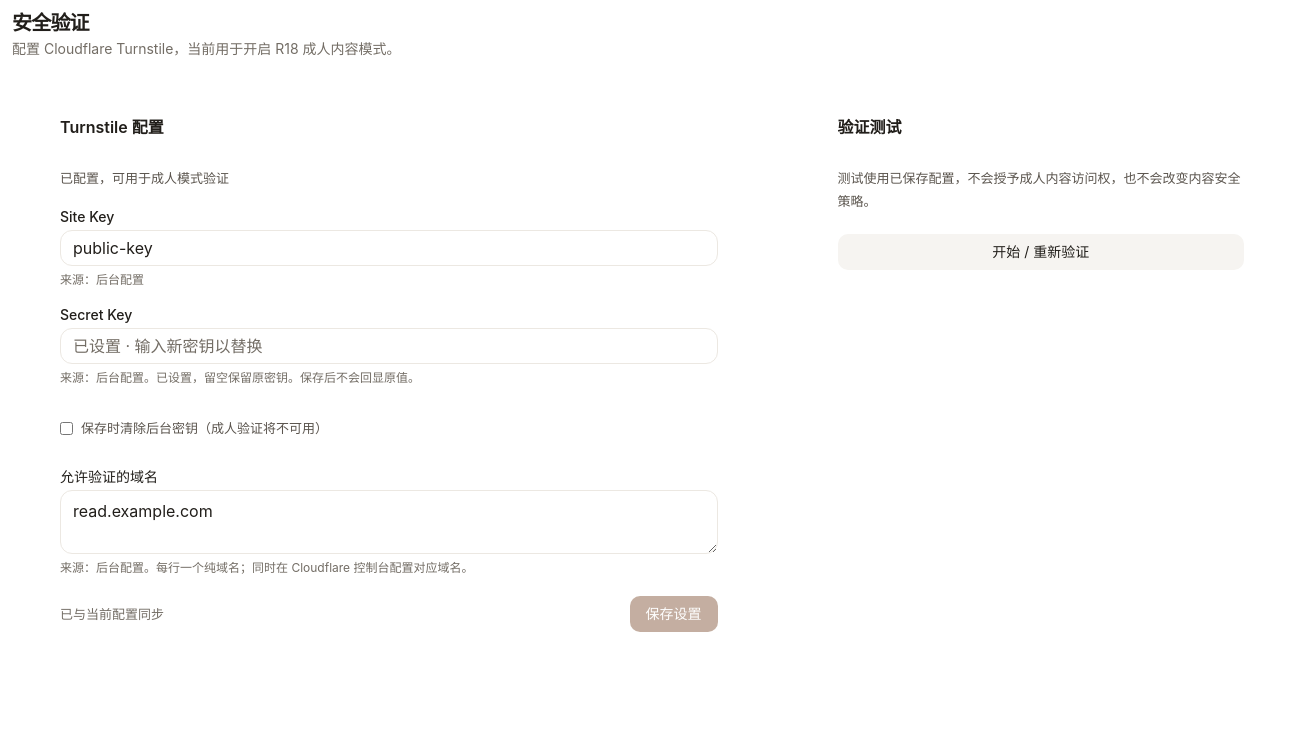
Test: SiteSettingsTab › 私钥留空不替换，未保存修改禁止测试
expect the button "保存设置" is shown: met, box [630,596,718,632]
Type "new.example.com" into the text box labelled "允许验证的域名".
click(389, 522); type("new.example.com")  # box [60,490,718,554]
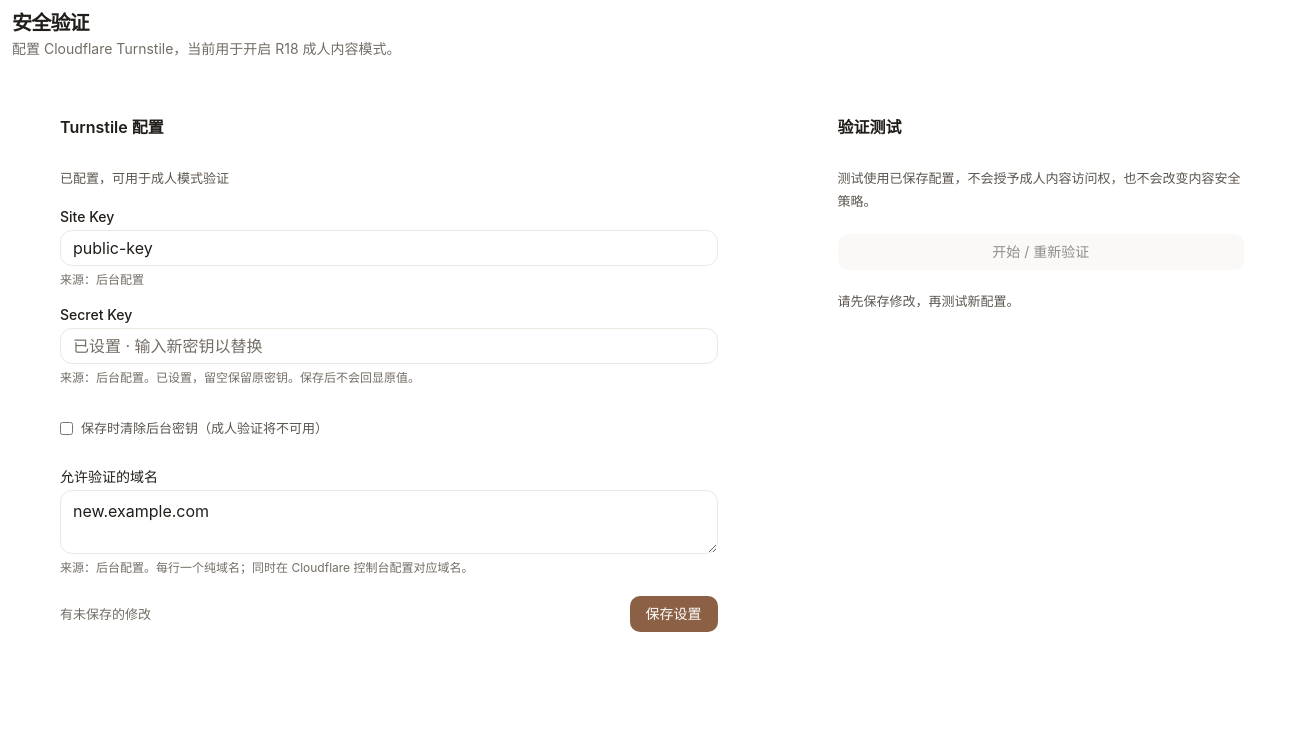
expect the button "开始 / 重新验证" is disabled: met, box [838,234,1244,270]
Click the button "保存设置".
click(674, 614)  # box [630,596,718,632]
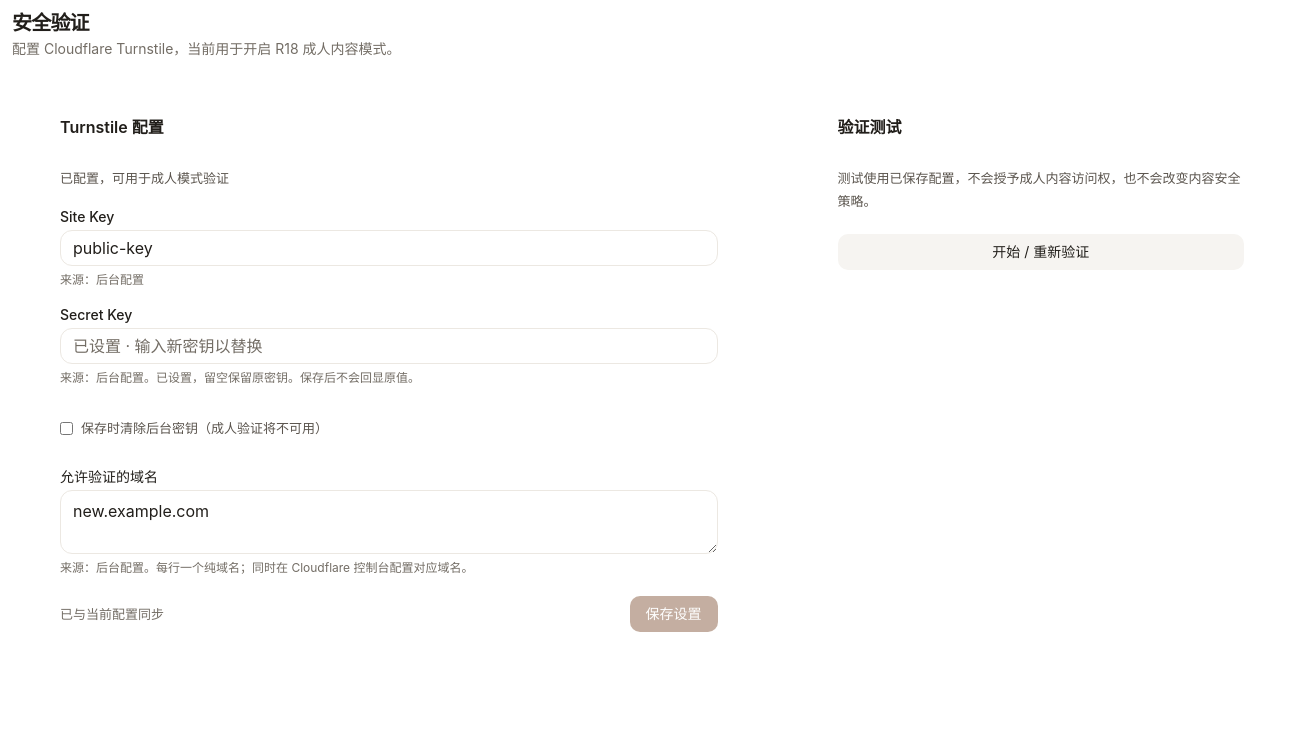
expect the button "开始 / 重新验证" is enabled: met, box [838,234,1244,270]
